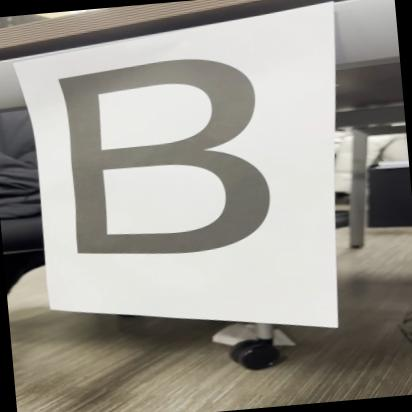seat: (27, 41, 322, 276)
